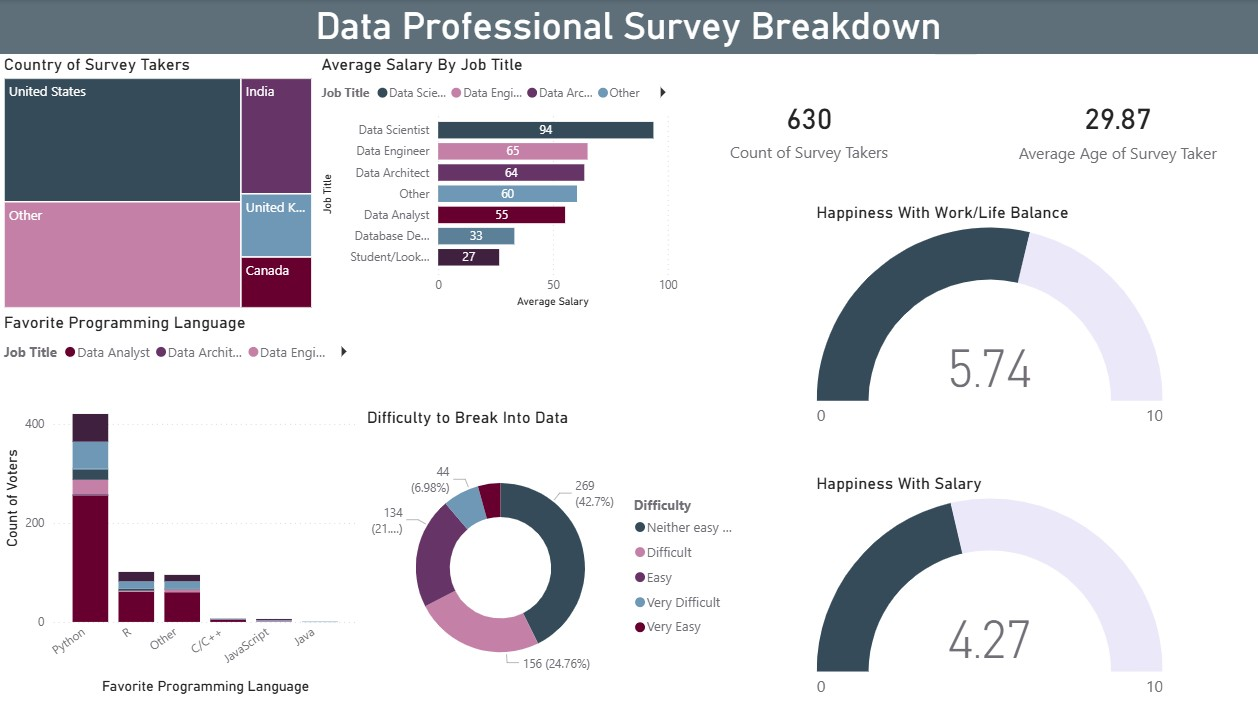

The dashboard page shown, as its layout file describes it:
{"tool":"powerbi","page":{"name":"Page 1","canvas":[1280,720],"ordinal":0},"visuals":[{"type":"textbox","box":[0,0,1279.3,55.9],"z":0},{"type":"card","fields":{"Values":["Count(Data Professional Survey.Unique ID)"]},"box":[694.1,55.9,257,149.4],"z":1000},{"type":"card","fields":{"Values":["Avg(Data Professional Survey.Q10 - Current Age)"]},"box":[993,55.9,286.3,150.8],"z":2000},{"type":"barChart","title":"Average Salary By Job Title","fields":{"Category":["Data Professional Survey.Q1 - Which Title Best Fits your Current Role?.1"],"Y":["Avg(Data Professional Survey.Average Salary)"],"Series":["Data Professional Survey.Q1 - Which Title Best Fits your Current Role?.1"]},"box":[322.6,55.9,371.5,262.6],"z":3000},{"type":"columnChart","title":"Favorite Programming Language","fields":{"Category":["Data Professional Survey.Q5 - Favorite Programming Language.1"],"Y":["CountNonNull(Data Professional Survey.Unique ID)"],"Series":["Data Professional Survey.Q1 - Which Title Best Fits your Current Role?.1"]},"box":[0,318.4,368.7,392.4],"z":4000},{"type":"treemap","title":"Country of Survey Takers","fields":{"Values":["CountNonNull(Data Professional Survey.Q11 - Which Country do you live in?.1)"],"Group":["Data Professional Survey.Q11 - Which Country do you live in?.1"]},"box":[0,55.9,322.6,262.6],"z":5000},{"type":"gauge","title":"Happiness  With Work/Life Balance","fields":{"Y":["Avg(Data Professional Survey.Q6 - How Happy are you in your Current Position with the following? (Work/Life Balance))"],"MinValue":["Min(Data Professional Survey.Q6 - How Happy are you in your Current Position with the following? (Work/Life Balance))1"],"MaxValue":["Max(Data Professional Survey.Q6 - How Happy are you in your Current Position with the following? (Work/Life Balance))2"]},"box":[825.4,206.7,361.7,238.8],"z":6000},{"type":"gauge","title":"Happiness With Salary","fields":{"Y":["Avg(Data Professional Survey.Q6 - How Happy are you in your Current Position with the following? (Salary))"],"MinValue":["Min(Data Professional Survey.Q6 - How Happy are you in your Current Position with the following? (Salary))"],"MaxValue":["Max(Data Professional Survey.Q6 - How Happy are you in your Current Position with the following? (Salary))"]},"box":[825.4,481.8,361.7,238.8],"z":7000},{"type":"donutChart","title":"Difficulty to Break Into Data","fields":{"Category":["Data Professional Survey.Q7 - How difficult was it for you to break into Data?"],"Y":["CountNonNull(Data Professional Survey.Q7 - How difficult was it for you to break into Data?)"]},"box":[368.7,414.8,398,305.9],"z":8000}]}

Visuals, with their boxes in screenshot pixels (x1, y1, x2, y2), scaled from the page's 1280x720 canvas onto the 1258x705 screenshot:
textbox: [left=0, top=0, right=1257, bottom=55]
card - Count(Data Professional Survey.Unique ID): [left=682, top=55, right=935, bottom=201]
card - Avg(Data Professional Survey.Q10 - Current Age): [left=976, top=55, right=1257, bottom=202]
"Average Salary By Job Title" barChart: [left=317, top=55, right=682, bottom=312]
"Favorite Programming Language" columnChart: [left=0, top=312, right=362, bottom=696]
"Country of Survey Takers" treemap: [left=0, top=55, right=317, bottom=312]
"Happiness  With Work/Life Balance" gauge: [left=811, top=202, right=1167, bottom=436]
"Happiness With Salary" gauge: [left=811, top=472, right=1167, bottom=704]
"Difficulty to Break Into Data" donutChart: [left=362, top=406, right=754, bottom=704]
